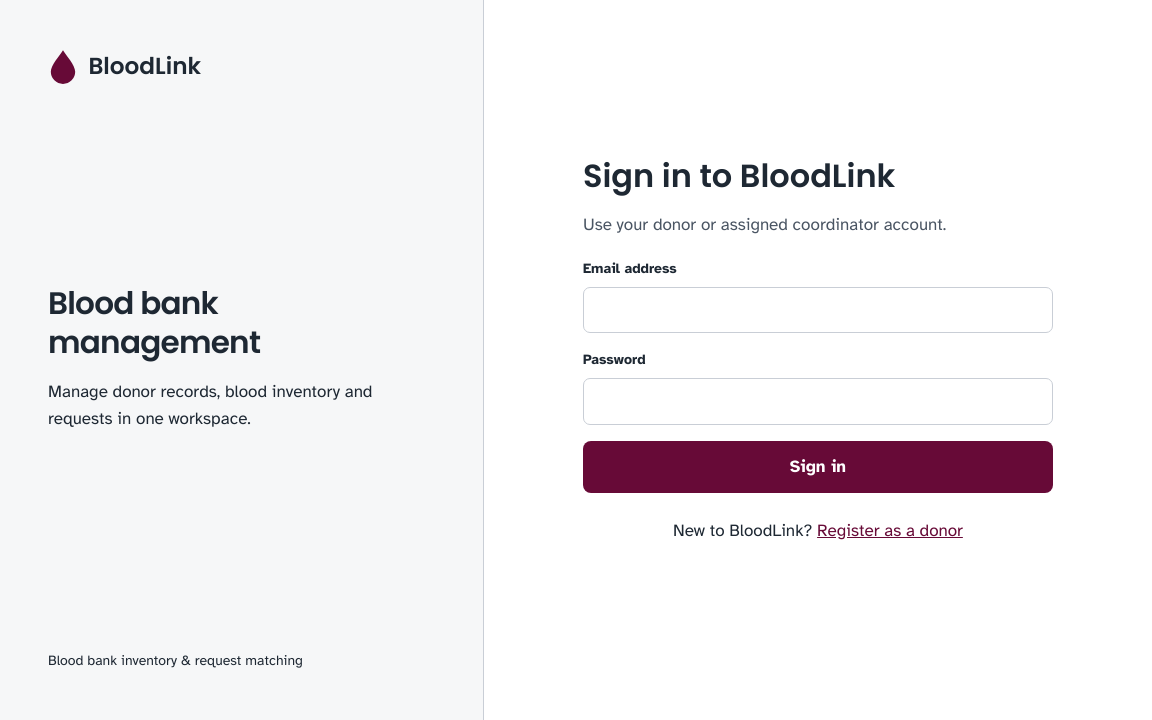
Test: sign-in sends credentials without an old token and routes coordinator to requests
Step 1. Type "test@example.com" into the field labelled "Email address" → [818, 310], box [583,287,1053,333]
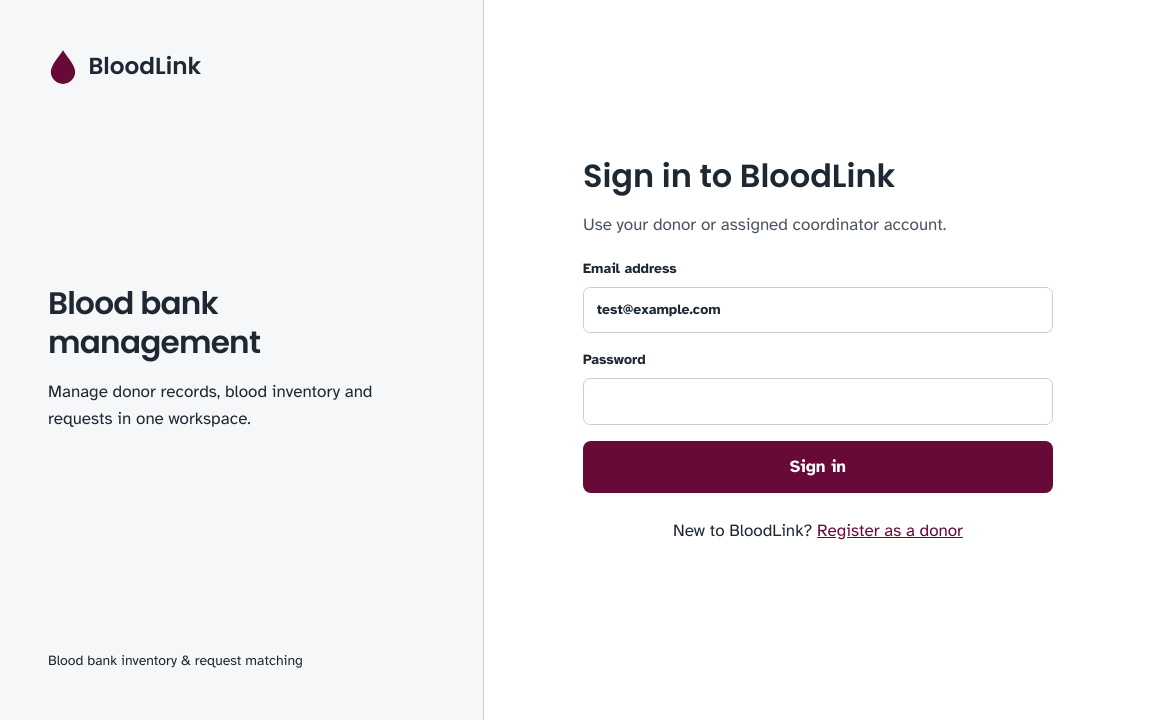
Step 2. Type "Password123" into the password field labelled "Password" → [818, 402], box [583,378,1053,425]
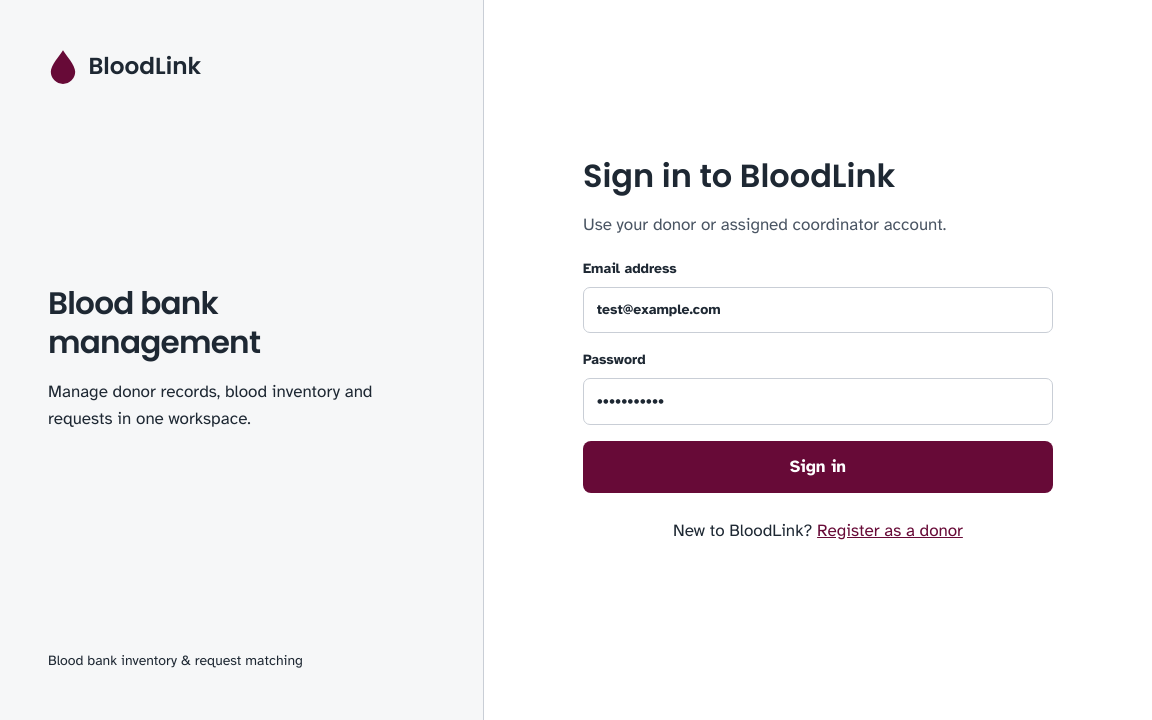
Step 3. Click the button "Sign in" → [818, 467], box [583,441,1053,493]
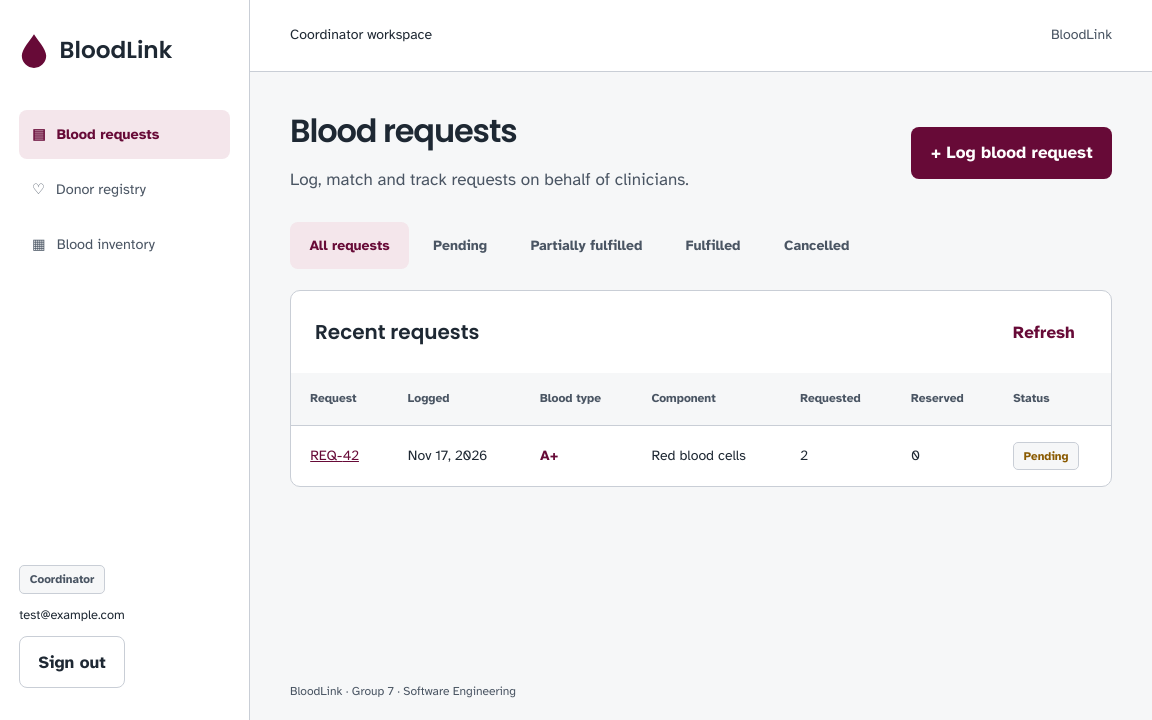
Result: the heading "Blood requests" is shown at [290,108,516,153]
Result: the cell "Nov 17, 2026" is shown at [389,425,521,486]
